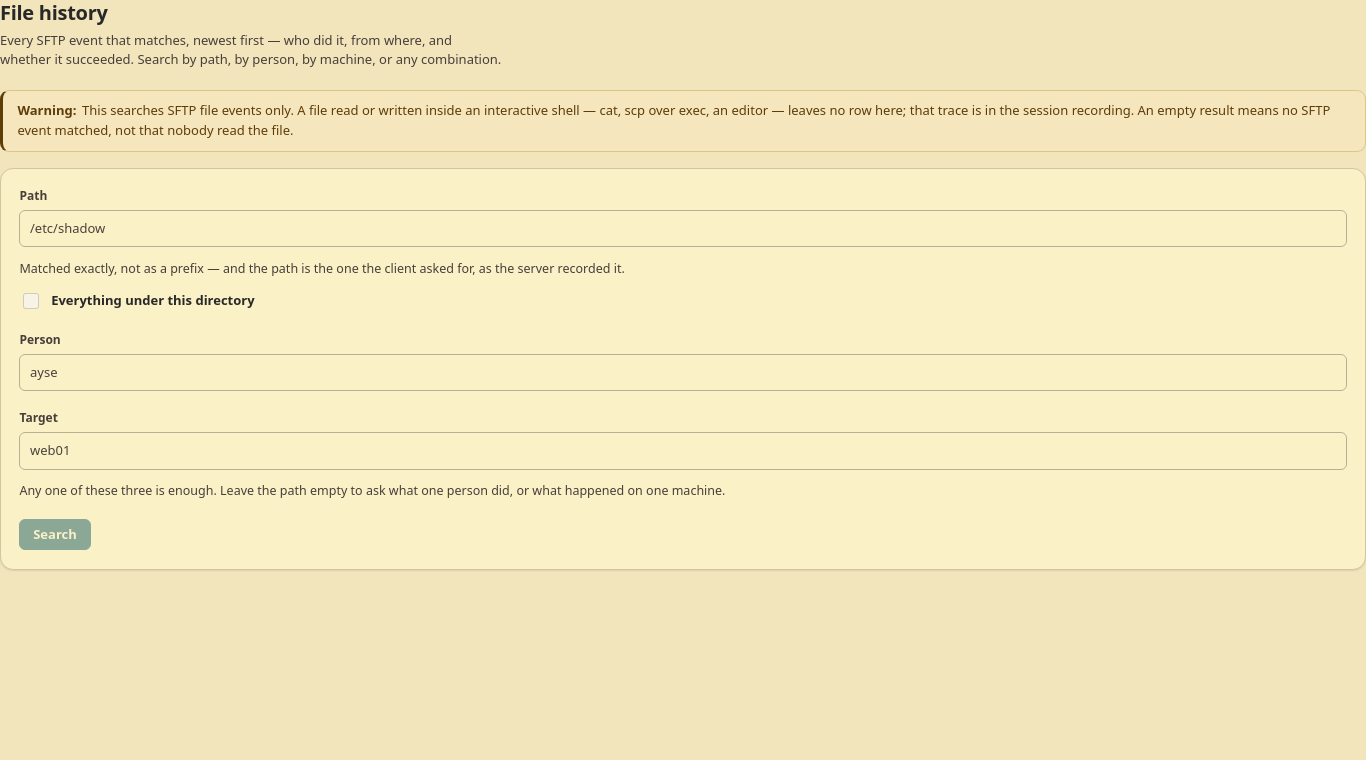
it: sonuçlar › dosyanın oraya rename ile geldiğini işaretliyor
In the field labelled "Path": (683, 229) top-left (19, 210), bottom-right (1347, 247), type "/tmp/exfil"
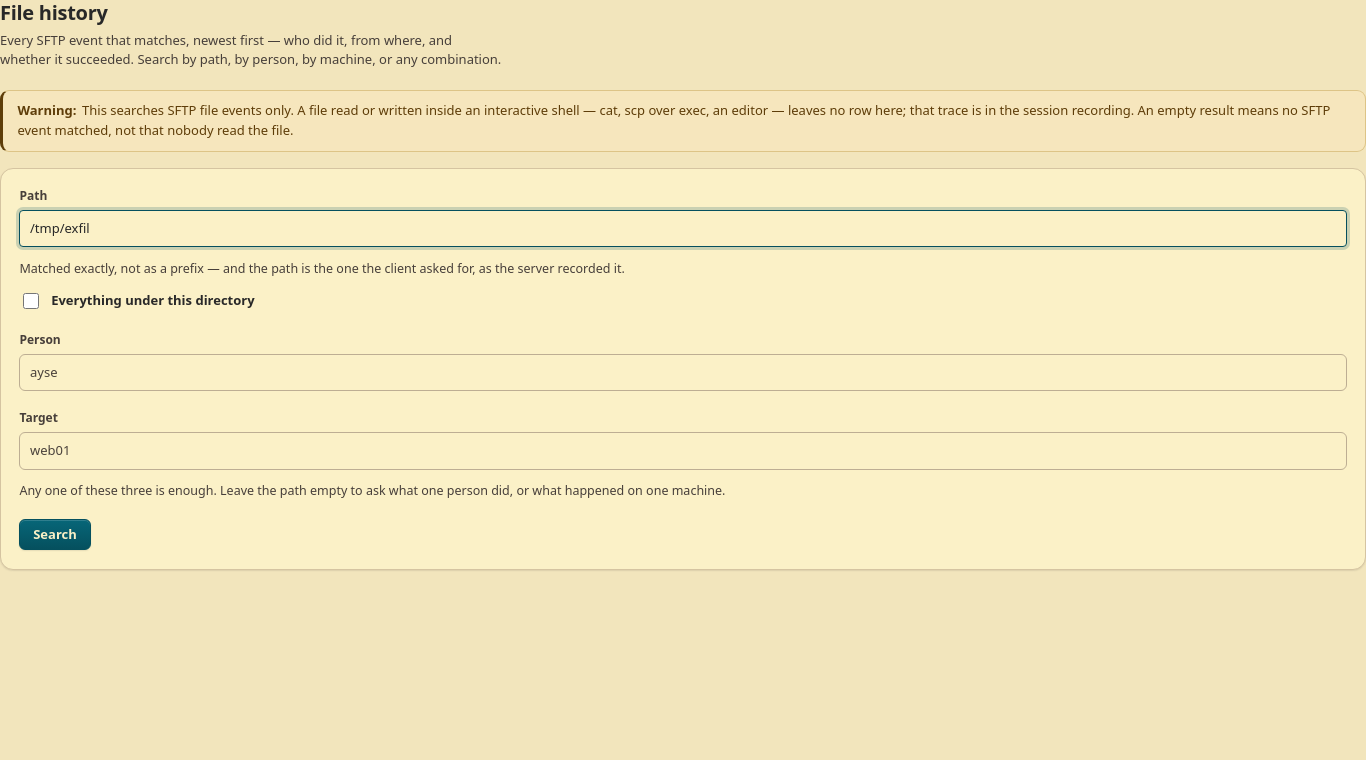
Click the button "Search": click(55, 535) top-left (19, 519), bottom-right (91, 550)
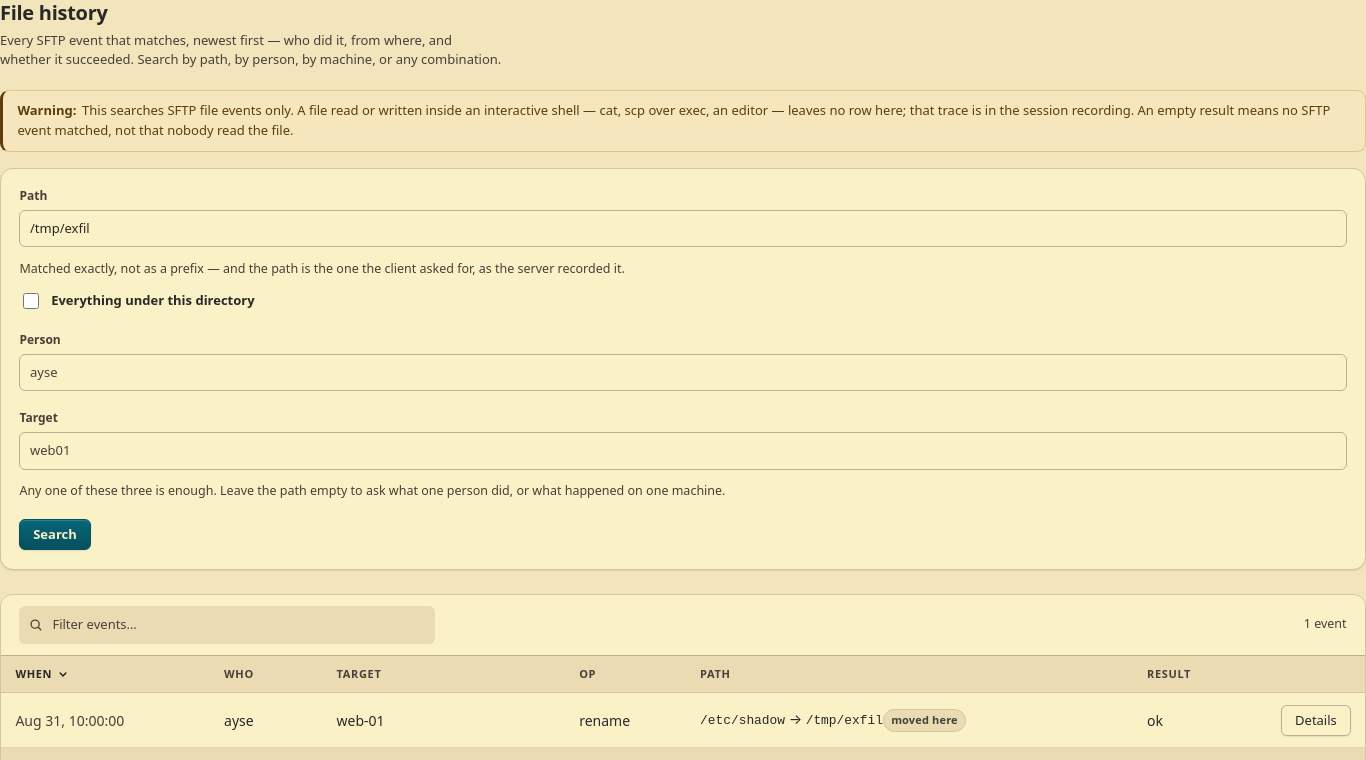
Expected: the text "moved here" is shown, top-left (883, 709), bottom-right (966, 732)
Expected: the text "/etc/shadow" is shown, top-left (700, 713), bottom-right (785, 728)
